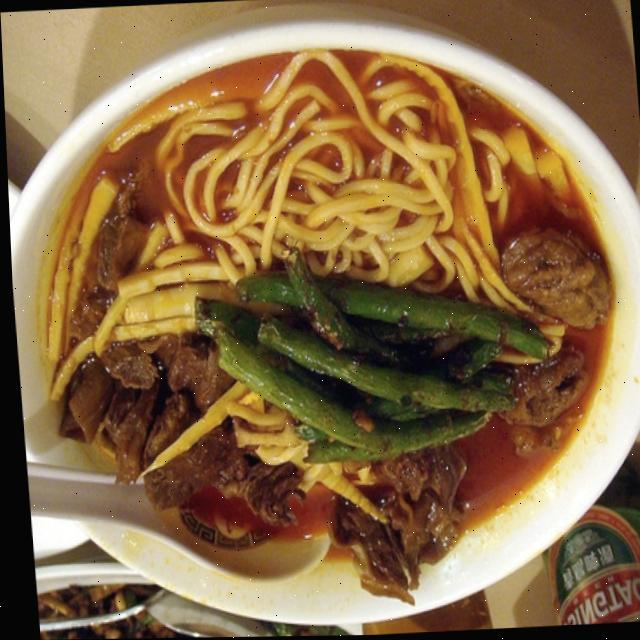面条主食: (2, 44, 640, 632)
